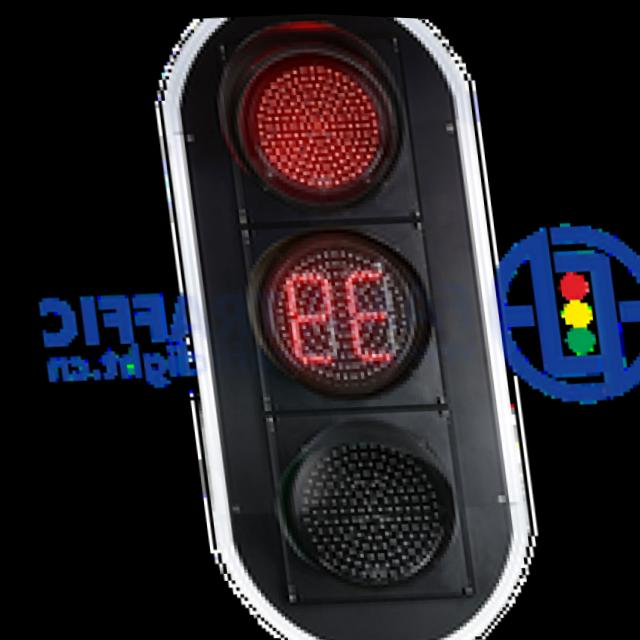red_light: (181, 13, 410, 239)
